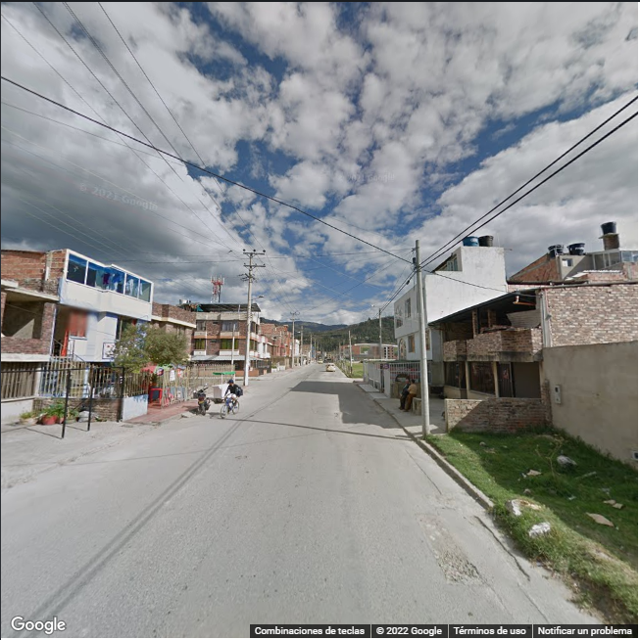D40: (415, 507, 480, 580)
